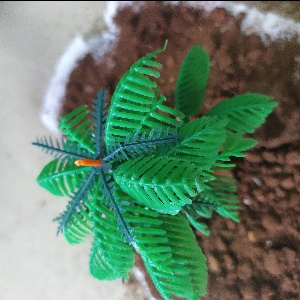plant: (38, 73, 219, 282)
